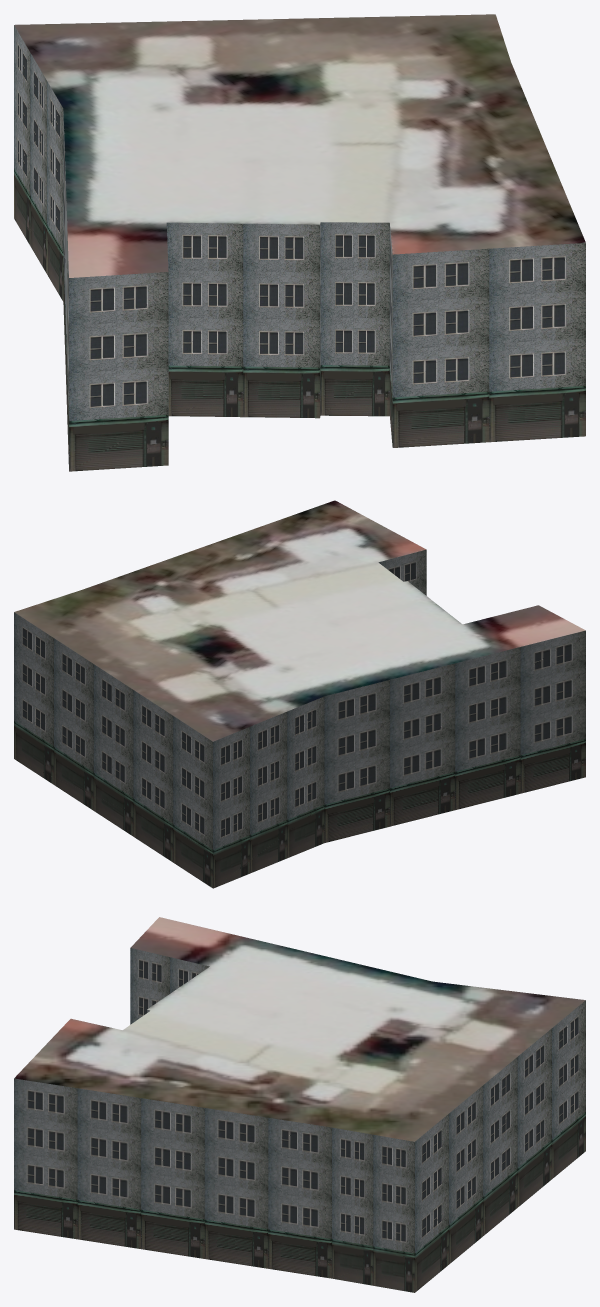
Rendered from T_1T8Q44PHWF.dae.
The picture shows the model from 3 angles, top to bottom: view 1: azimuth 30°, elevation 25°; view 2: azimuth 150°, elevation 25°; view 3: azimuth 270°, elevation 25°; orthographic projection. The views are drawn at different scales.
Visible parts, largest first — view 1: SketchUp (×13); view 2: SketchUp (×8); view 3: SketchUp (×8).
Boxes of the visible parts, box(x1,y1,x2,y2) form: SketchUp (×13): box(14, 14, 585, 471); SketchUp (×8): box(14, 500, 585, 888); SketchUp (×8): box(14, 917, 585, 1292).
Bounding box in the file's own units: 40.21 × 43.23 × 12.6.
Materials: 3 (3 with a texture image).
